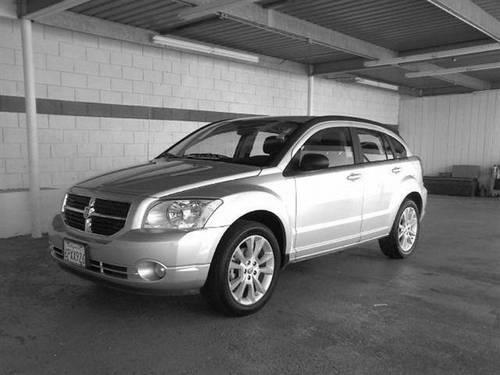car: (45, 113, 431, 321)
